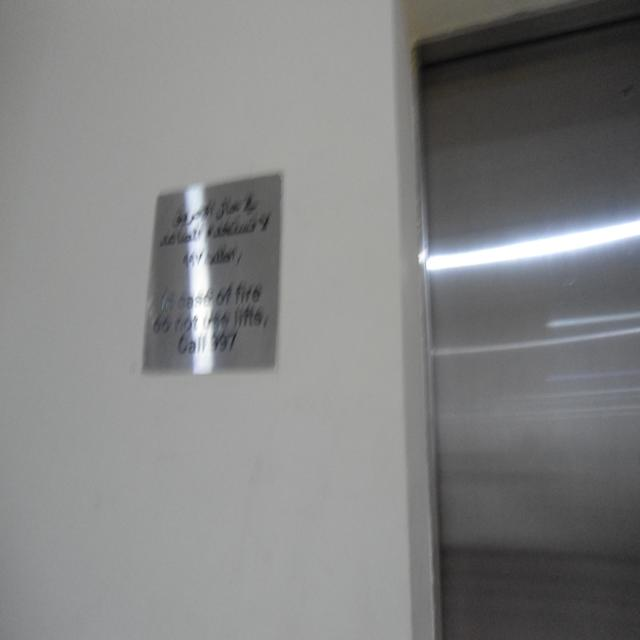lift: (420, 3, 640, 638)
sign: (144, 175, 281, 373)
